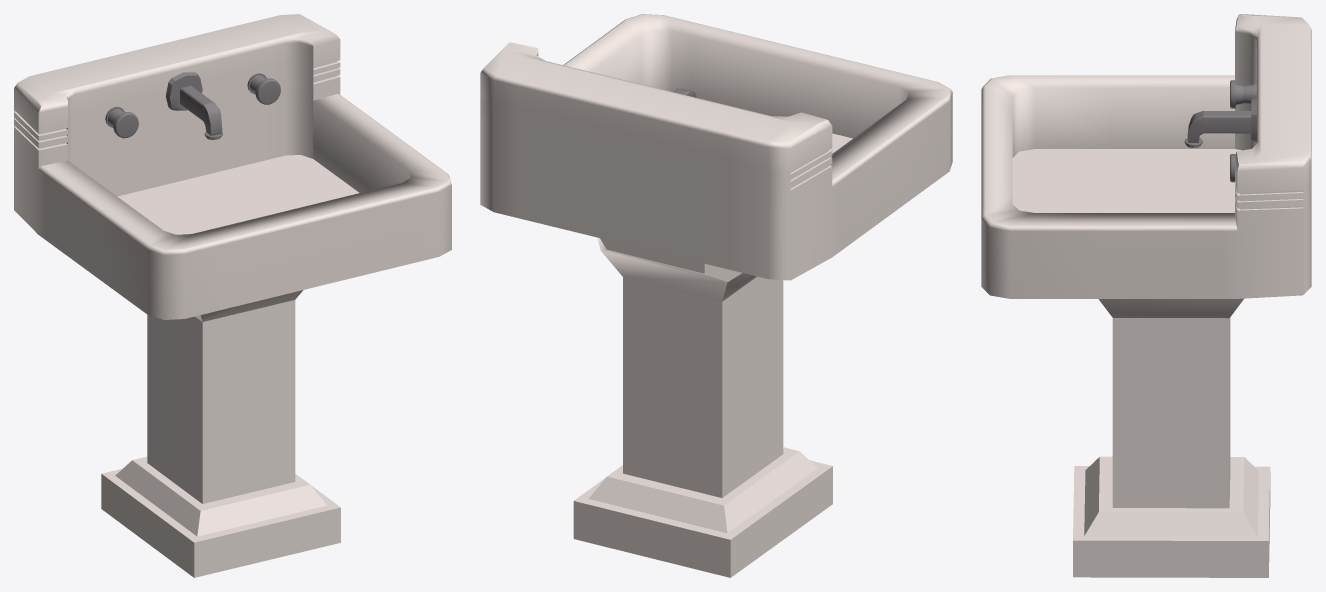
File: lavabo_wc_bas.fbx
3 renders of one model, left to right at view 1: azimuth 30°, elevation 25°; view 2: azimuth 150°, elevation 25°; view 3: azimuth 270°, elevation 25°, orthographic. The views are drawn at different scales.
Parts seen in each view (by area): view 1: pCube3; view 2: pCube3; view 3: pCube3.
Boxes of the visible parts, box(x1,y1,x2,y2) form: pCube3: box(14, 14, 451, 577); pCube3: box(480, 14, 952, 577); pCube3: box(981, 14, 1311, 577).
Size of the model in its own units: 433 by 593 by 393.
1 material, 1 textured.
